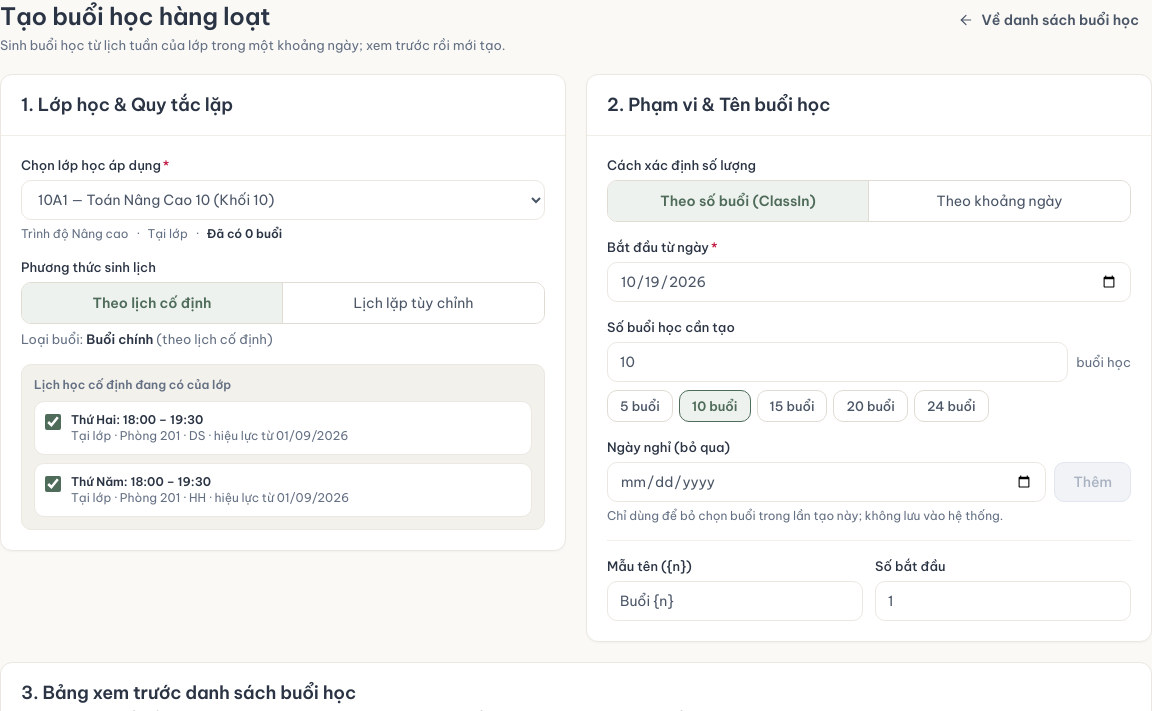
BatchSessionCreateWorkspace — design 17b preview › reads learning modes and the session kind in words, with one primary on the page
Check: the text "Tại lớp" is shown, box x1=147 y1=226 x2=188 y2=242
Check: the text "Loại buổi: Buổi chính (theo lịch cố định)" is shown, box x1=21 y1=331 x2=273 y2=347
Click the button "Lịch lặp tùy chỉnh": click(414, 303) x1=283 y1=283 x2=544 y2=323
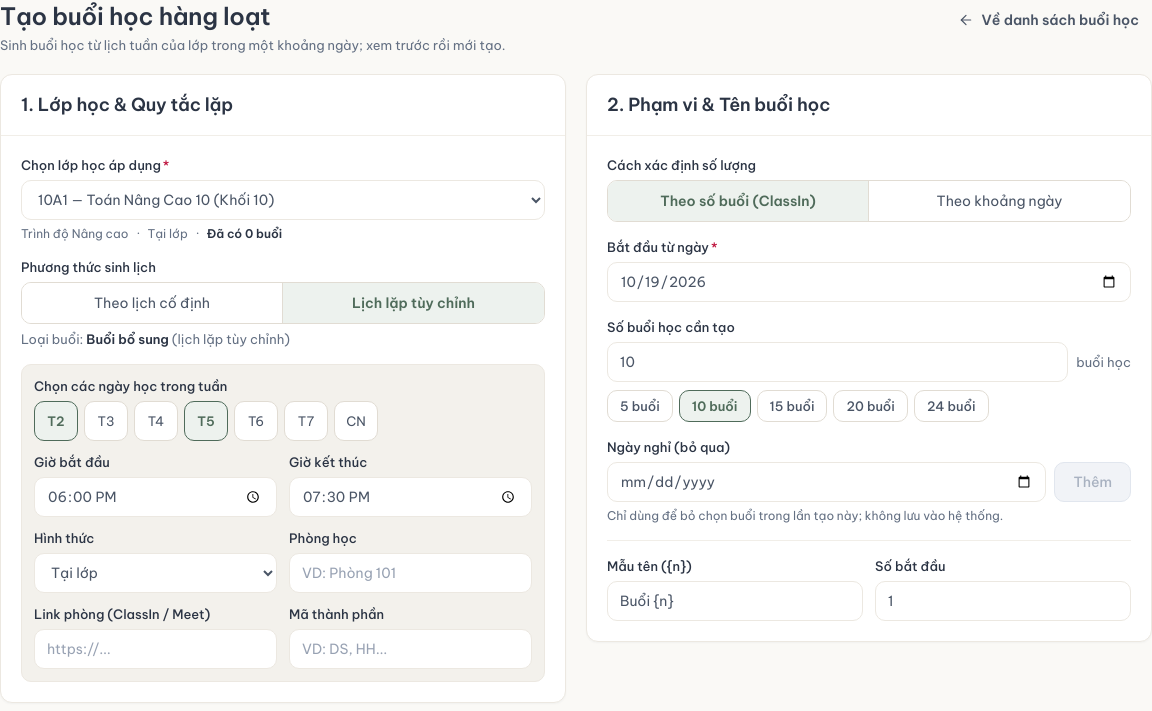
Check: the text "Loại buổi: Buổi bổ sung (lịch lặp tùy chỉnh)" is shown, box x1=21 y1=331 x2=290 y2=347
